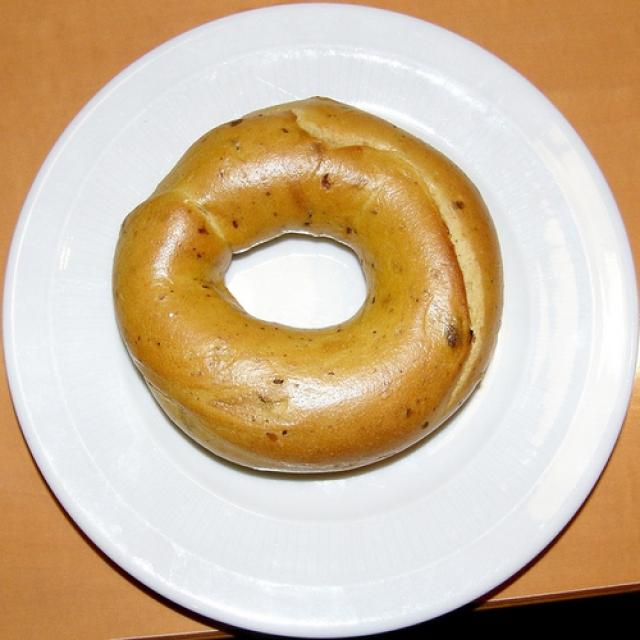面包点心: (0, 0, 634, 634)
